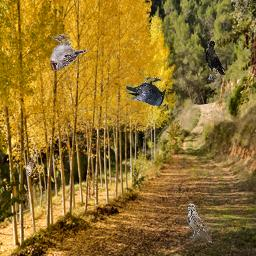Crow: (126, 77, 166, 106), (205, 40, 225, 80)
Sparrow: (49, 34, 89, 71), (187, 203, 212, 243), (26, 151, 36, 176)
